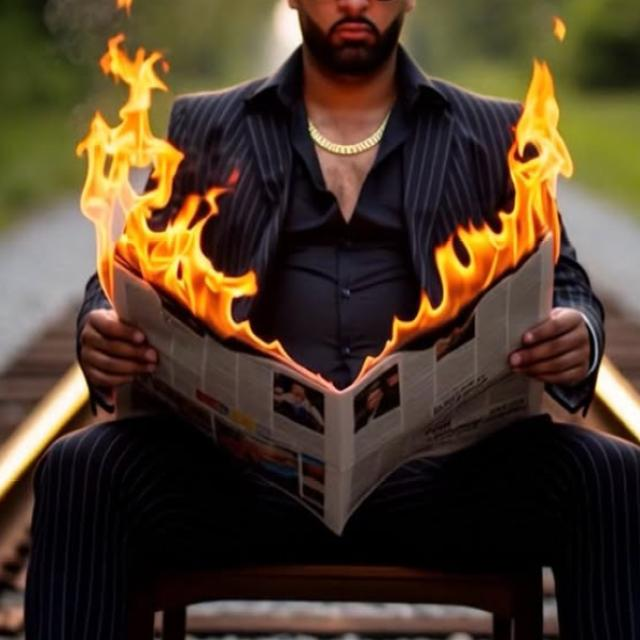fire: (435, 191, 560, 325), (76, 33, 184, 187), (79, 187, 214, 296), (175, 270, 289, 363), (508, 58, 574, 190), (367, 291, 436, 372), (214, 169, 242, 215)
